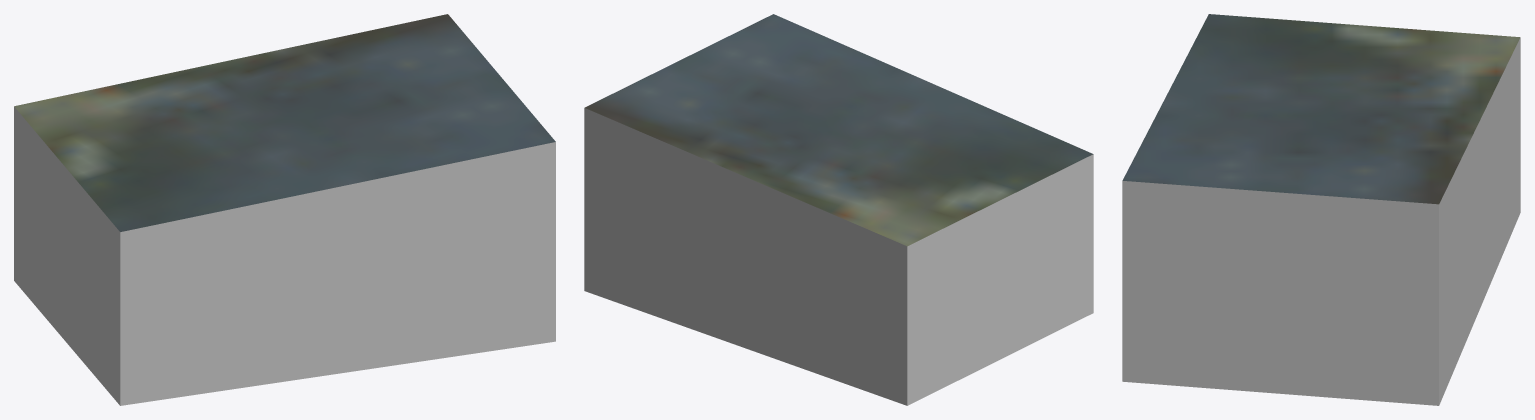
Rendered from DEBW_0010007TxaF.gltf.
The picture shows the model from 3 angles, left to right: view 1: azimuth 30°, elevation 25°; view 2: azimuth 150°, elevation 25°; view 3: azimuth 270°, elevation 25°; orthographic projection. The views are drawn at different scales.
Parts seen in each view (by area): view 1: Z_UP; view 2: Z_UP; view 3: Z_UP.
Part boxes in pixels (x1,y1,x2,y2): Z_UP: [14, 14, 555, 405]; Z_UP: [584, 14, 1093, 405]; Z_UP: [1122, 14, 1520, 405].
Bounding box in the file's own units: 6.18 × 2.68 × 4.79.
Materials: 2 (1 with a texture image).
